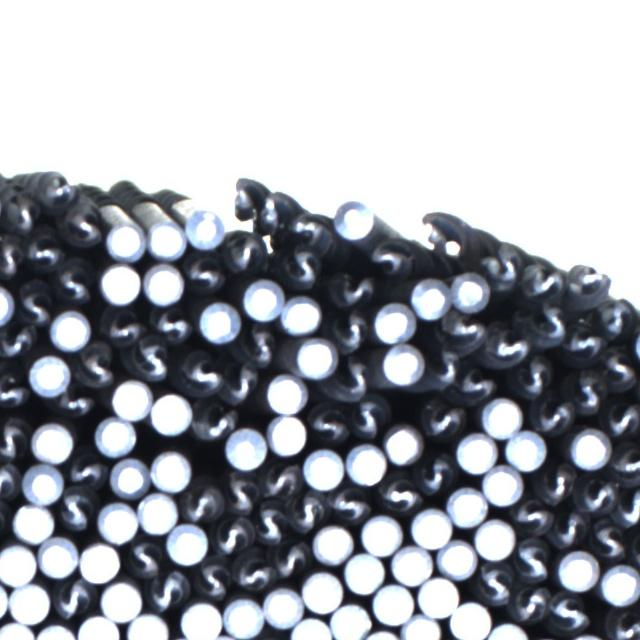tool: (448, 269, 492, 313), (301, 568, 344, 613), (27, 351, 69, 397), (48, 308, 92, 351), (96, 498, 139, 541), (149, 448, 191, 492), (102, 214, 143, 259), (136, 490, 178, 533), (294, 336, 337, 378), (31, 420, 74, 462), (302, 448, 345, 490), (240, 278, 282, 321), (359, 514, 403, 555), (343, 551, 385, 593), (77, 541, 119, 583), (196, 301, 238, 343), (445, 484, 487, 526), (334, 198, 376, 240), (185, 205, 227, 247), (417, 574, 458, 617), (141, 263, 184, 304), (36, 535, 77, 578), (93, 416, 136, 457), (225, 425, 266, 468), (261, 585, 302, 628), (481, 464, 522, 506), (99, 264, 141, 305), (391, 543, 433, 584), (9, 581, 50, 623), (372, 582, 413, 624), (448, 599, 490, 640), (110, 378, 151, 420), (504, 428, 545, 470), (480, 396, 522, 437), (411, 506, 452, 548), (599, 563, 640, 605), (569, 428, 610, 470), (268, 413, 308, 456), (408, 276, 448, 319), (180, 599, 221, 640), (279, 294, 320, 335), (11, 501, 53, 541), (151, 393, 191, 435), (265, 372, 305, 414), (101, 579, 141, 620), (456, 432, 497, 472), (165, 524, 206, 564), (330, 601, 372, 640), (223, 595, 262, 637), (346, 442, 385, 484), (22, 463, 62, 503), (474, 518, 514, 558), (437, 537, 476, 578), (384, 422, 422, 464), (382, 345, 421, 385), (312, 523, 352, 562), (374, 304, 414, 343), (146, 219, 185, 258), (110, 456, 148, 496), (557, 552, 597, 590), (0, 541, 35, 584), (125, 611, 167, 640), (77, 613, 120, 640), (401, 612, 440, 640), (290, 616, 330, 640), (35, 620, 75, 640), (487, 621, 526, 640)
tool_b: (369, 233, 416, 280), (178, 350, 223, 395), (422, 204, 463, 253), (64, 205, 108, 248), (0, 188, 44, 231), (480, 241, 519, 289), (563, 261, 613, 298), (522, 255, 561, 302), (191, 404, 236, 444), (439, 311, 485, 350), (49, 579, 92, 620), (532, 465, 575, 506), (511, 536, 551, 580), (224, 359, 261, 406), (353, 392, 390, 439), (133, 339, 172, 383), (286, 209, 332, 246), (147, 571, 189, 611), (332, 359, 372, 401), (334, 269, 376, 309), (279, 245, 319, 287), (423, 345, 460, 390), (547, 506, 587, 547), (508, 585, 550, 624), (99, 315, 147, 349), (323, 490, 372, 523), (571, 365, 604, 414), (179, 484, 219, 524), (308, 404, 348, 444), (590, 520, 629, 561), (473, 564, 511, 606), (487, 326, 530, 363), (533, 301, 568, 346), (212, 515, 251, 555), (253, 502, 290, 544), (419, 453, 454, 497), (508, 497, 552, 532), (125, 537, 163, 577), (78, 347, 116, 387), (227, 230, 265, 270), (378, 477, 420, 513), (151, 306, 194, 341), (532, 398, 575, 433), (58, 489, 91, 534), (273, 544, 311, 583), (56, 263, 93, 303), (333, 312, 370, 352), (194, 559, 231, 598), (224, 473, 260, 513), (423, 403, 463, 439), (229, 175, 262, 218), (233, 553, 272, 589), (262, 463, 304, 496), (259, 185, 289, 231), (26, 232, 63, 269), (577, 480, 613, 518), (187, 253, 222, 292), (602, 348, 637, 387), (548, 594, 585, 630), (598, 299, 637, 333), (605, 401, 640, 438), (518, 357, 550, 397), (0, 419, 29, 463), (291, 492, 322, 533), (40, 171, 75, 207), (66, 454, 106, 485), (20, 287, 53, 324), (0, 369, 30, 409), (0, 232, 26, 278), (458, 369, 495, 401), (55, 390, 94, 420), (566, 328, 606, 357), (0, 328, 40, 356), (612, 444, 640, 482), (614, 487, 640, 527), (608, 609, 640, 640), (0, 463, 20, 505)
